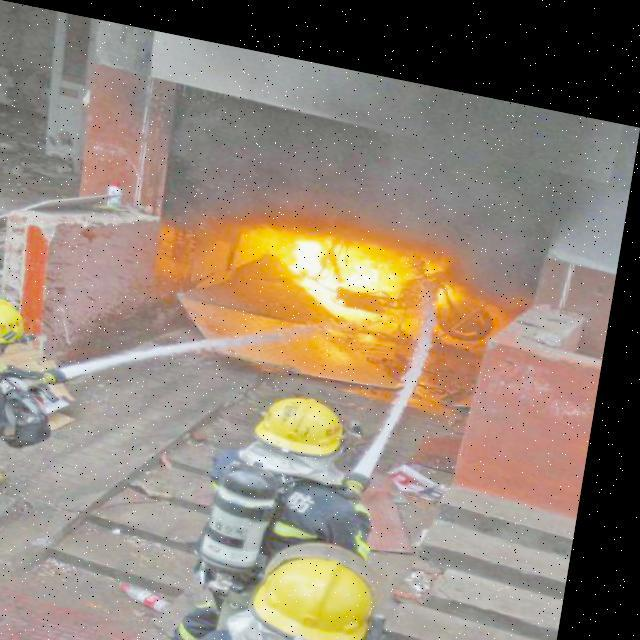Fire: (239, 202, 456, 314)
